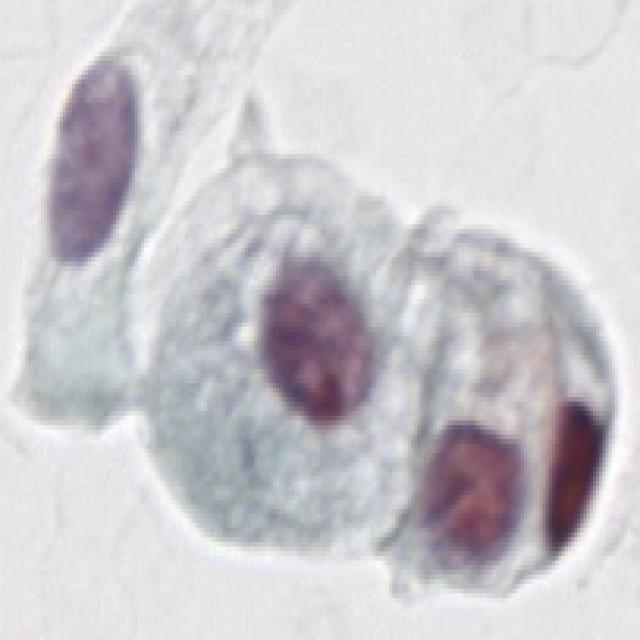cytoplasm: (54, 119, 532, 612)
nucleus: (231, 237, 402, 435)
